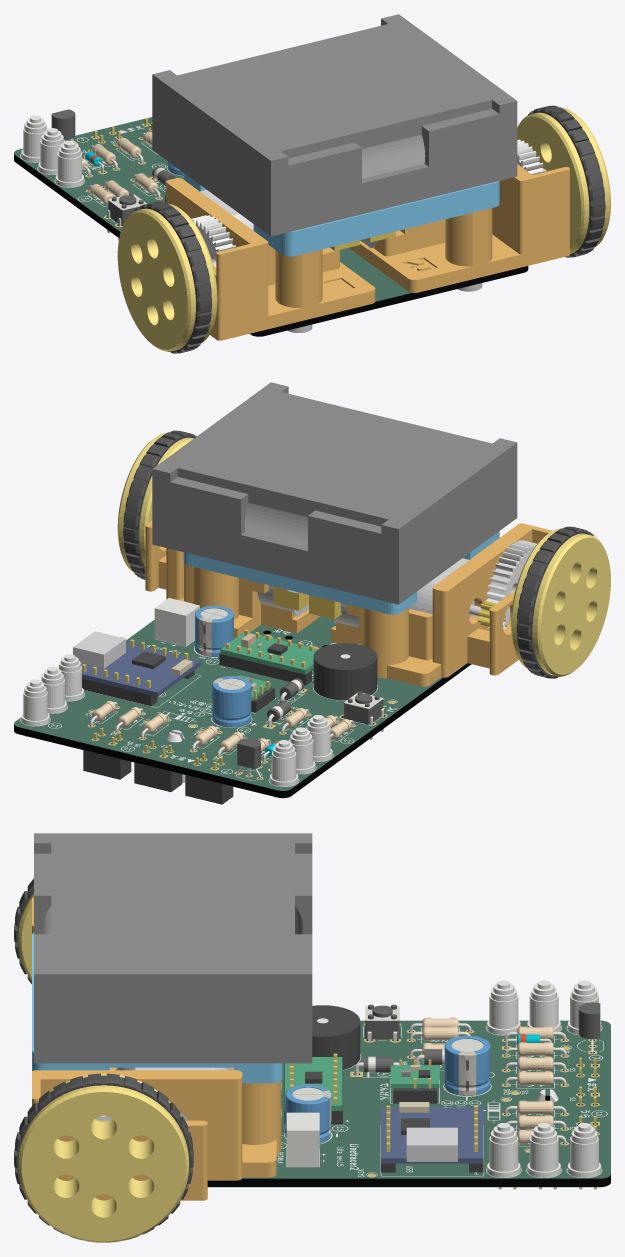
File: Linetracer2-Lite_assembly.glb
3 views of the same model, one above another, from view 1: azimuth 30°, elevation 25°; view 2: azimuth 150°, elevation 25°; view 3: azimuth 270°, elevation 25° (orthographic). The views are drawn at different scales.
Size of the model in its own units: 99.6 by 46.59 by 104.
